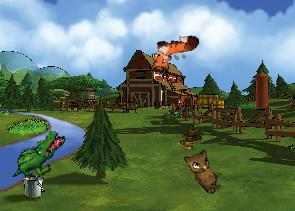crocodile: (10, 121, 67, 190)
fox: (146, 33, 202, 75)
owl: (179, 143, 231, 196)
